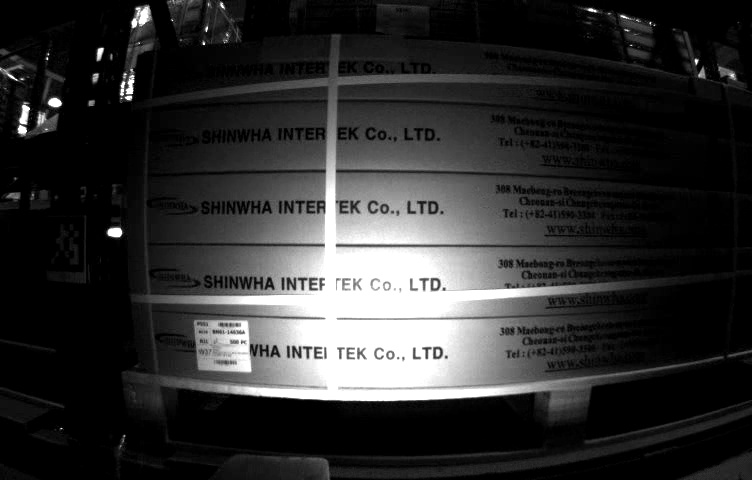True Barcode: (195, 320, 254, 372)
